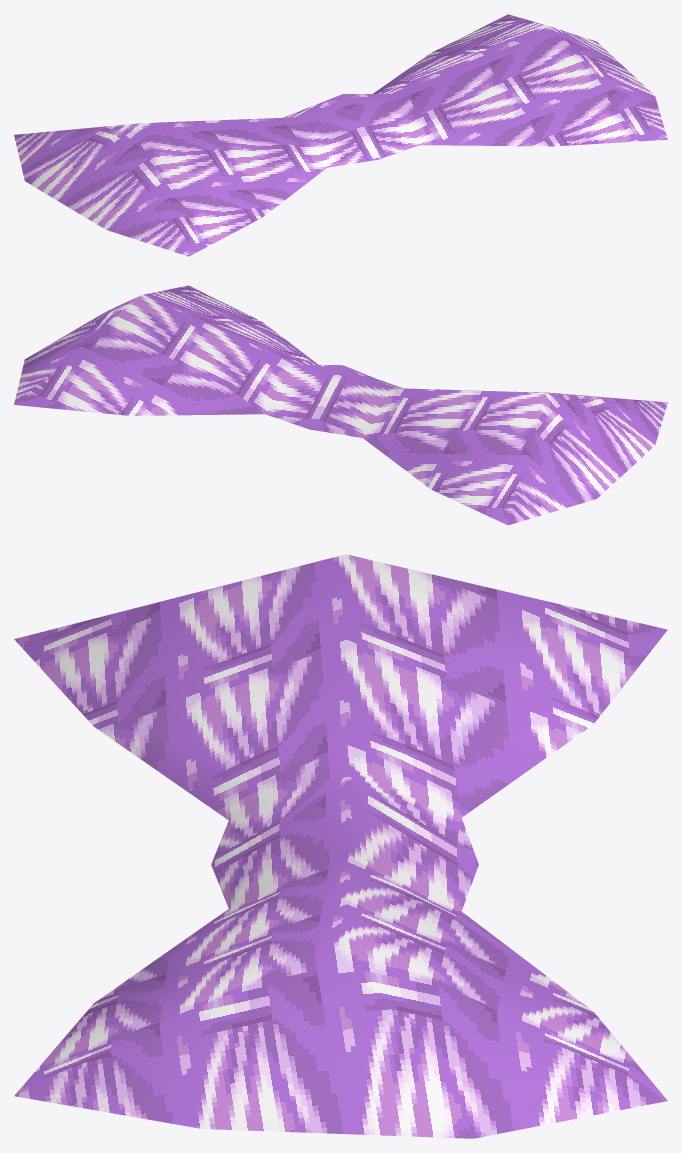
Rendered from 2949head099_c.gltf.
3 views of the same model, one above another, from view 1: azimuth 30°, elevation 25°; view 2: azimuth 150°, elevation 25°; view 3: azimuth 270°, elevation 25° (orthographic). The views are drawn at different scales.
Visible parts, largest first — view 1: 2949head099_c; view 2: 2949head099_c; view 3: 2949head099_c.
Boxes of the visible parts, <box> form: 2949head099_c: <box>14,14,667,256</box>; 2949head099_c: <box>14,285,667,525</box>; 2949head099_c: <box>14,554,667,1138</box>.
Size of the model in its own units: 0.8569 by 0.0891 by 0.4341.
Materials: 1 (1 with a texture image).
